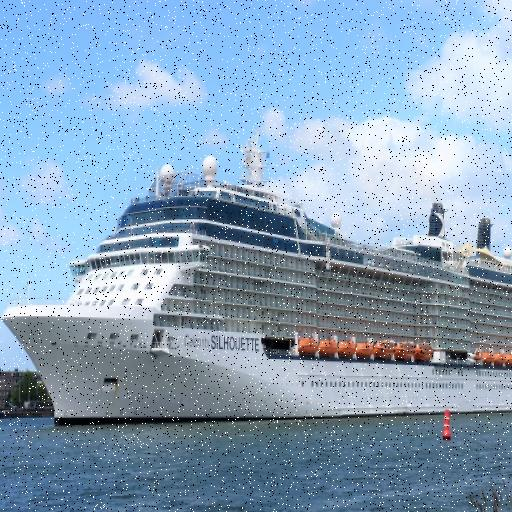cruises: (1, 115, 512, 428)
